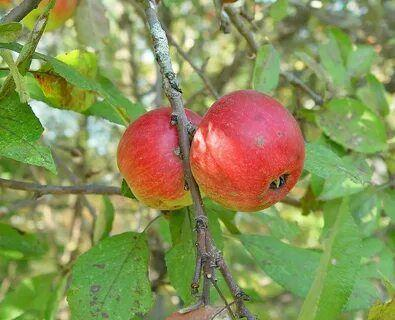Apple: (190, 90, 305, 211), (118, 109, 171, 210)
